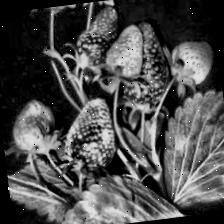Powdery Mildew Fruit: (116, 20, 174, 116), (59, 96, 120, 178), (70, 4, 124, 81), (101, 23, 148, 86)
